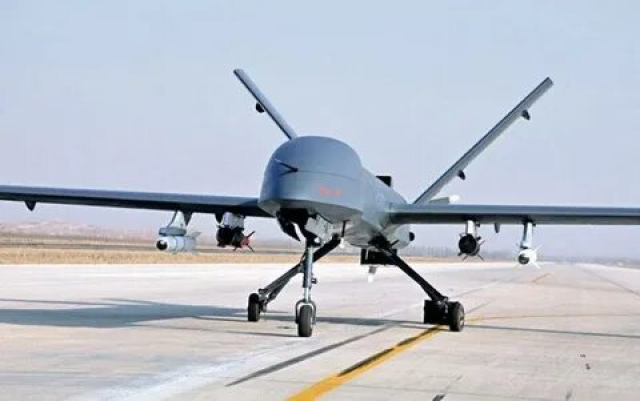military drone: (0, 68, 640, 337)
